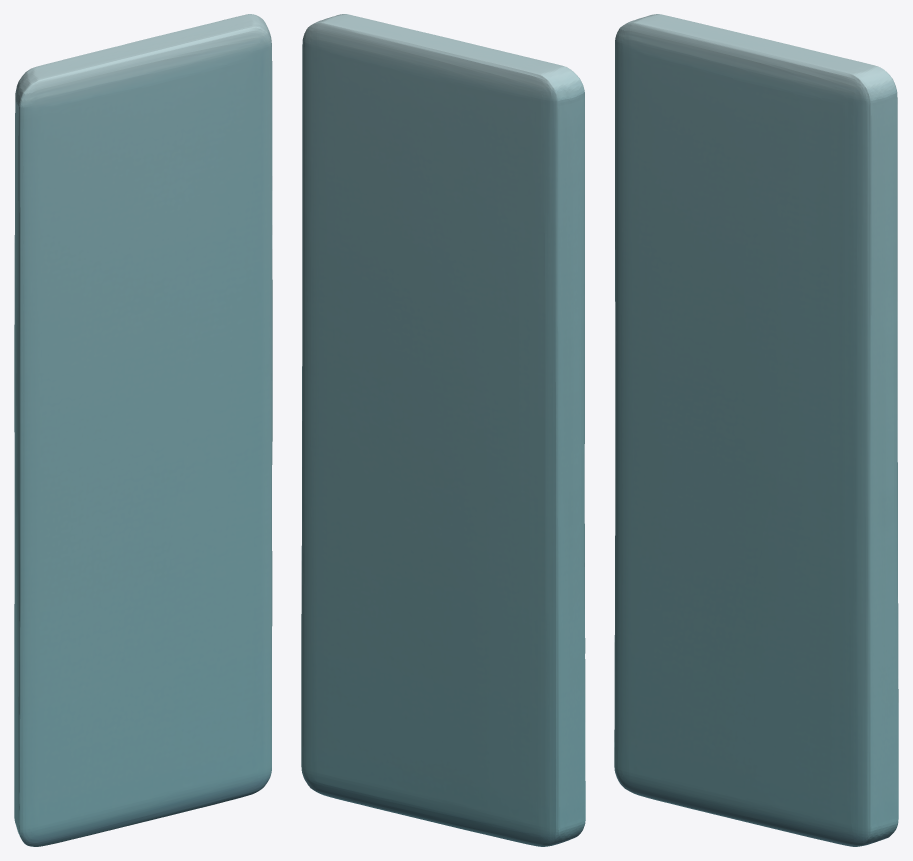
Rendered from obj2_sam3d_obb.glb.
The picture shows the model from 3 angles, left to right: view 1: azimuth 30°, elevation 25°; view 2: azimuth 150°, elevation 25°; view 3: azimuth 330°, elevation 25°; orthographic projection.
Visible parts, largest first — view 1: world; view 2: world; view 3: world.
Part boxes in pixels (left/top/right/bottom): world: left=14, top=14, right=272, bottom=846; world: left=301, top=14, right=585, bottom=846; world: left=614, top=14, right=898, bottom=846.
Size of the model in its own units: 0.0327 by 0.0903 by 0.00452.
